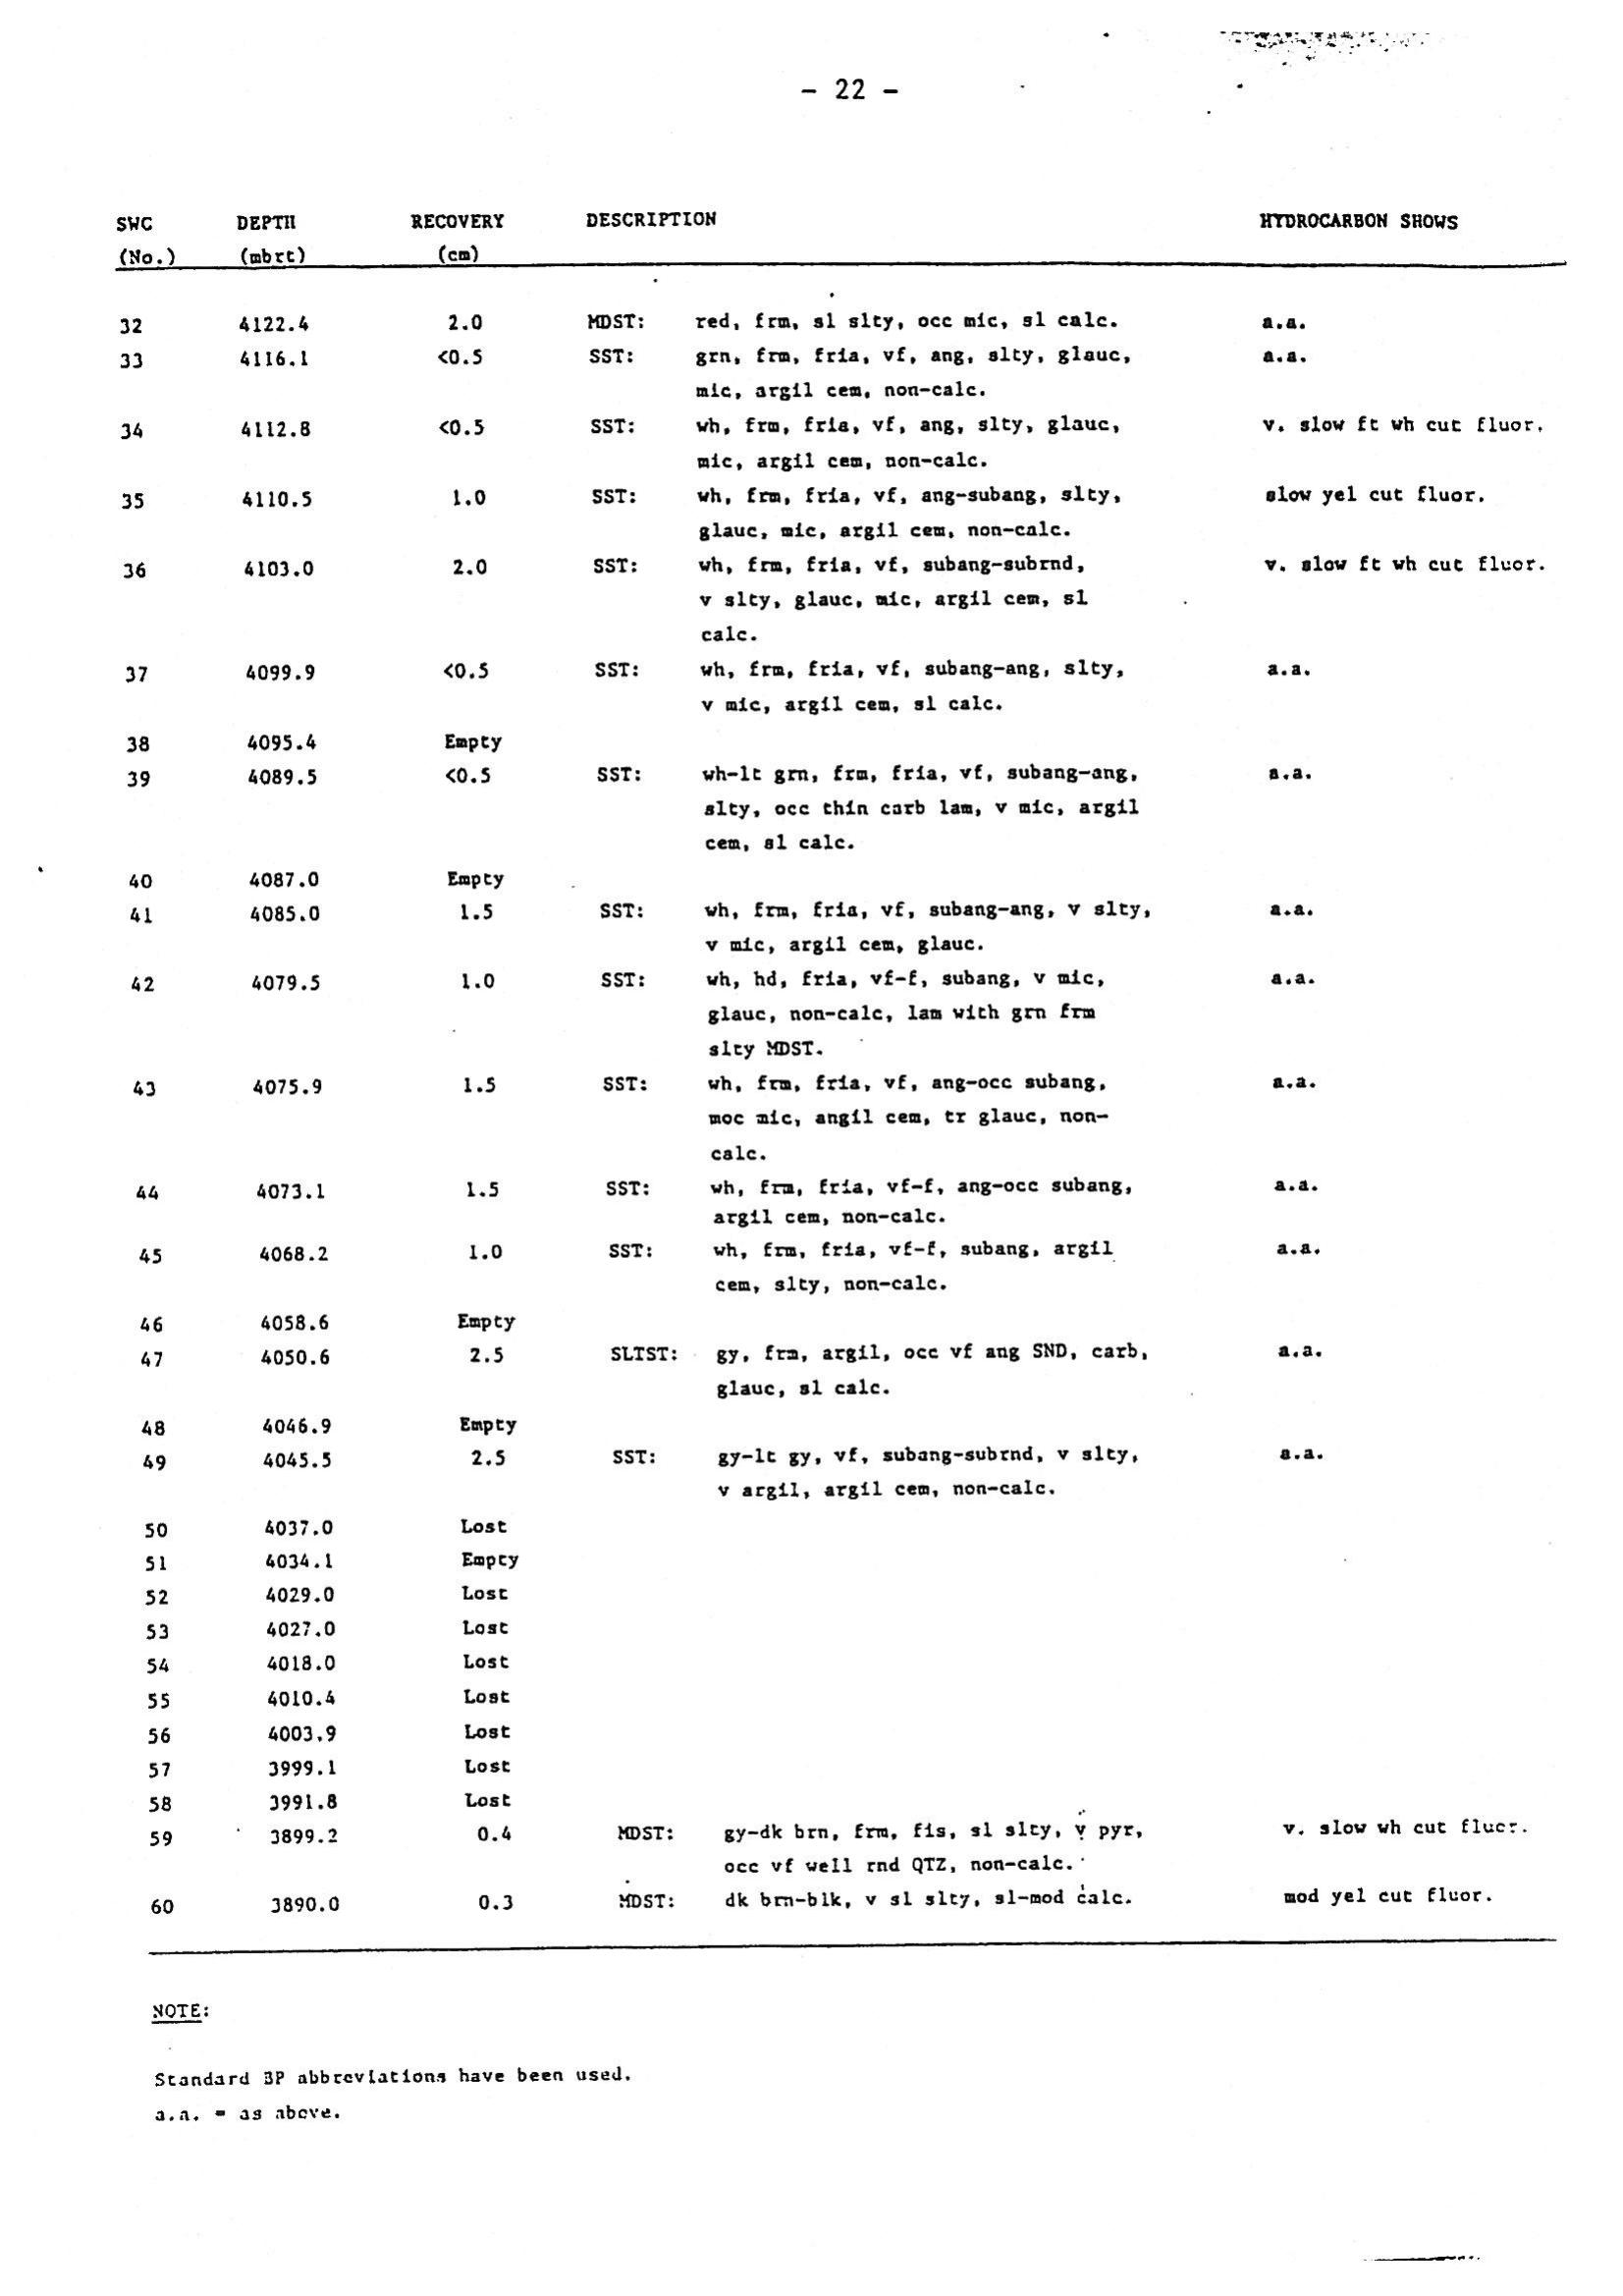table: (84, 184, 1584, 1932)
text: (107, 1987, 678, 2155)
